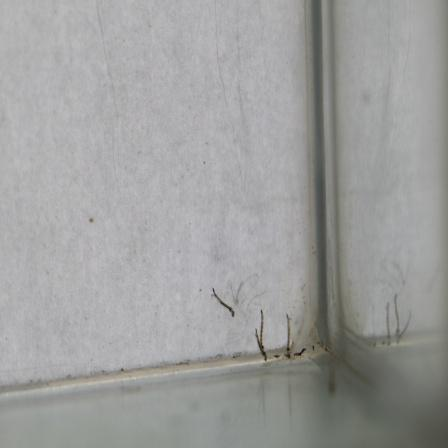Jentik-Nyamuk: (282, 312, 309, 360), (207, 286, 237, 321), (252, 307, 269, 363)
